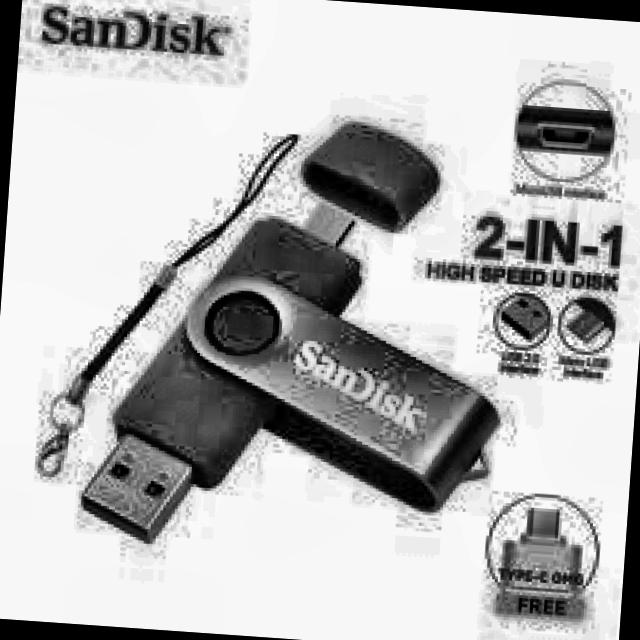Mug: (26, 112, 497, 627)
